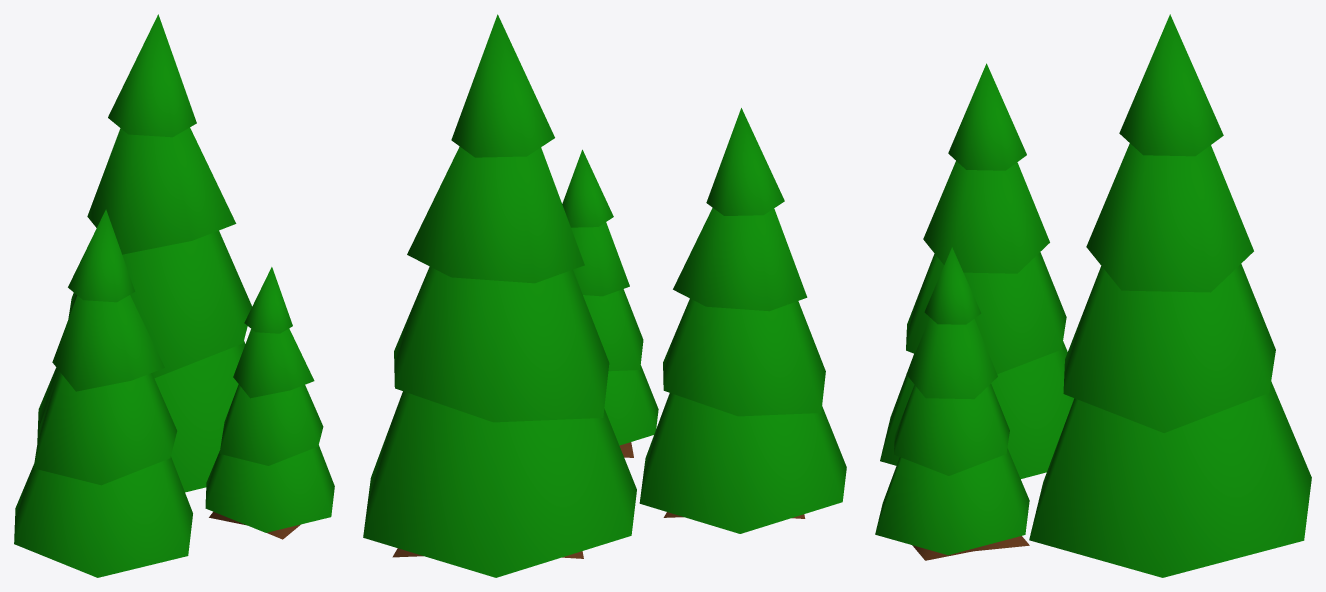
Rendered from Pini.FBX.
3 renders of one model, left to right at view 1: azimuth 30°, elevation 25°; view 2: azimuth 150°, elevation 25°; view 3: azimuth 270°, elevation 25°, orthographic. The views are drawn at different scales.
Visible parts, largest first — view 1: Cylinder005; view 2: Cylinder005; view 3: Cylinder005.
Boxes of the visible parts, x1,y1,x2,y2 form: Cylinder005: [14, 14, 334, 577]; Cylinder005: [363, 14, 846, 577]; Cylinder005: [875, 14, 1311, 577].
Size of the model in its own units: 1 by 1.25 by 0.9742.
